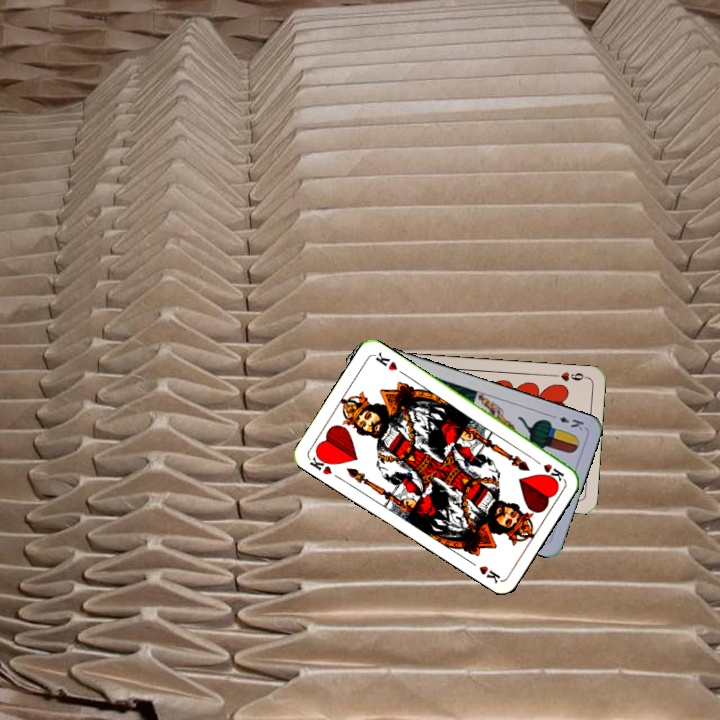EK: (547, 410, 586, 433)
H9: (549, 368, 590, 384)
HK: (529, 455, 567, 484), (306, 449, 336, 477)
